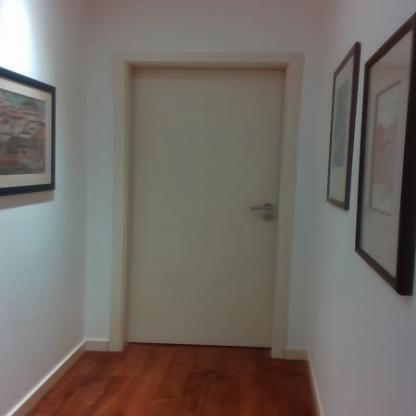door: (131, 68, 278, 345)
lever: (247, 200, 275, 214)
